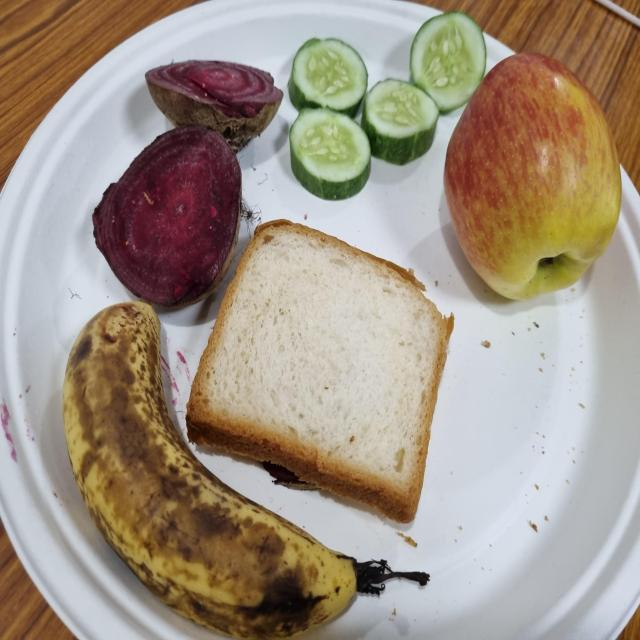apple: (443, 54, 624, 303)
banana: (61, 302, 359, 640)
cucumber: (407, 13, 485, 115), (289, 107, 373, 198), (286, 38, 371, 124), (360, 79, 441, 168)
